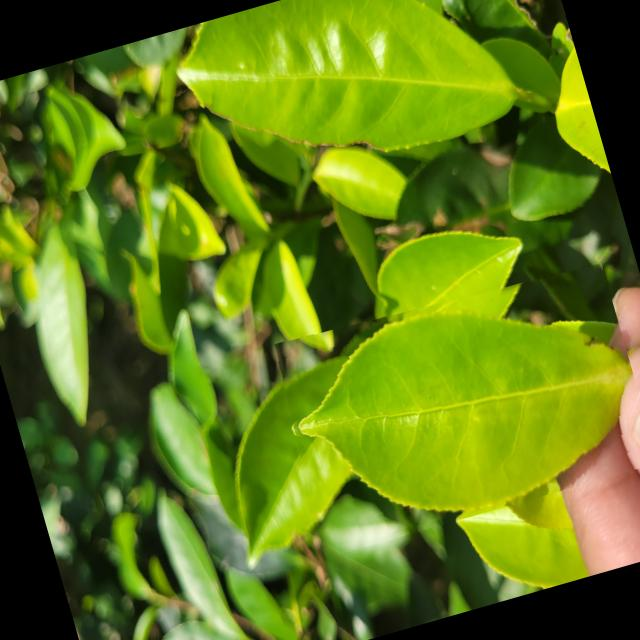Catagory A(1-2 days): (263, 250, 640, 557)
